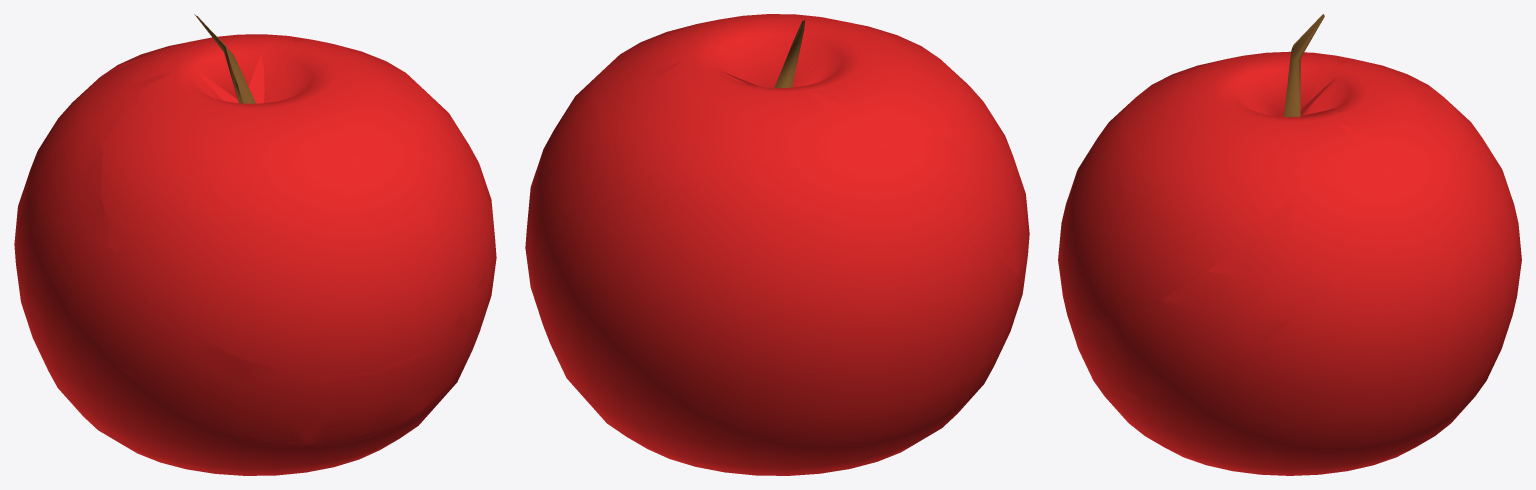
The model's file is apple.fbx.
3 renders of one model, left to right at view 1: azimuth 30°, elevation 25°; view 2: azimuth 150°, elevation 25°; view 3: azimuth 270°, elevation 25°, orthographic. The views are drawn at different scales.
Visible parts, largest first — view 1: apple.001, apple; view 2: apple, apple.001; view 3: apple, apple.001.
Part boxes in pixels (box(x1,y1,x2,y2)): apple.001: box(39, 14, 496, 444); apple: box(14, 34, 496, 475); apple: box(525, 56, 1029, 475); apple.001: box(553, 14, 1027, 285); apple: box(1063, 54, 1521, 475); apple.001: box(1058, 14, 1439, 399).
Size of the model in its own units: 195 by 183 by 195.
